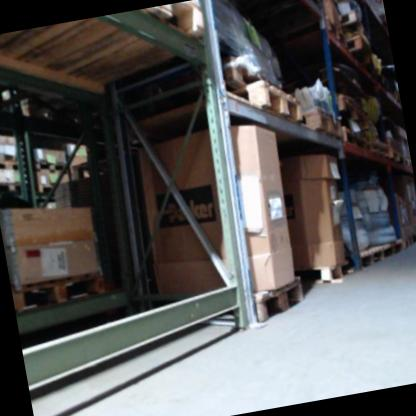pallet: (10, 268, 108, 315), (234, 75, 304, 133), (142, 0, 206, 45), (249, 276, 306, 324), (302, 103, 343, 143), (339, 122, 368, 155), (345, 34, 373, 66), (32, 153, 69, 176), (324, 16, 348, 51), (319, 259, 352, 282), (340, 11, 364, 37), (0, 177, 28, 197), (0, 153, 24, 174)
